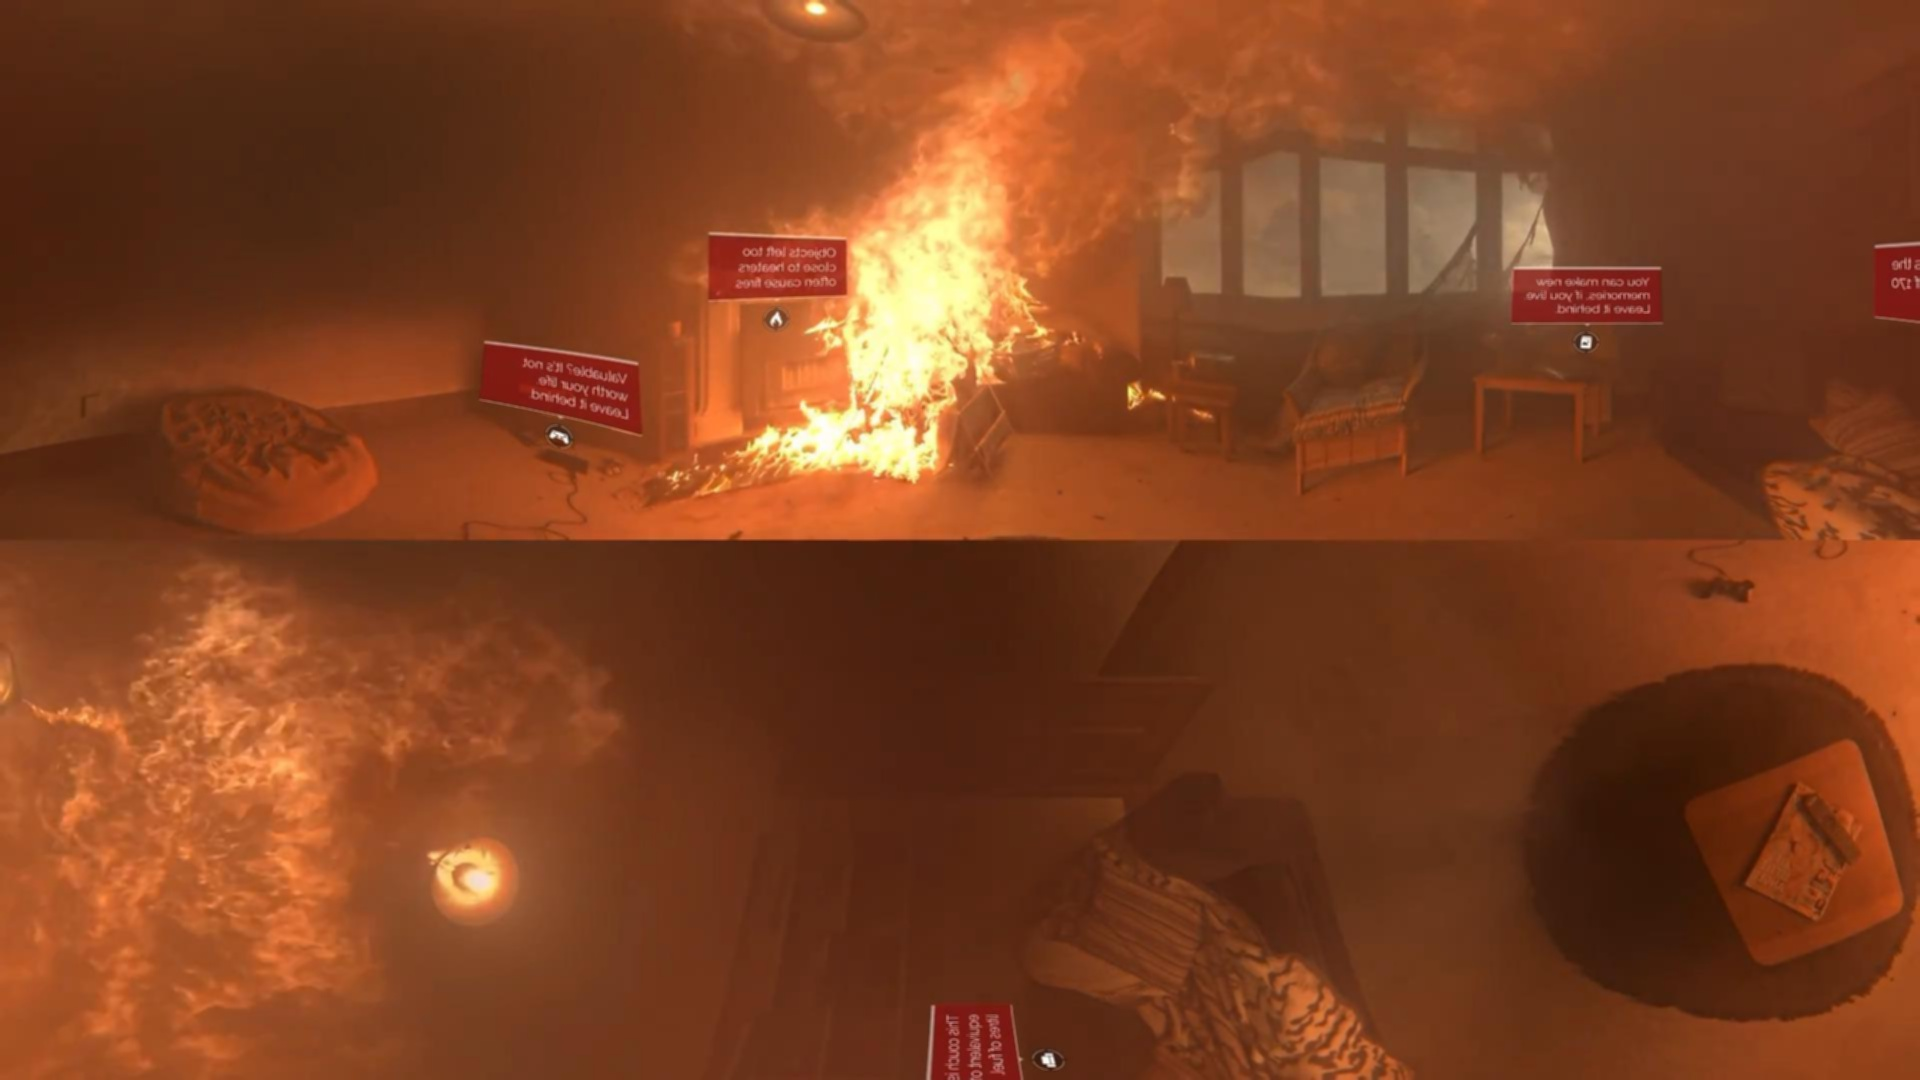fire: (773, 1, 1108, 484)
